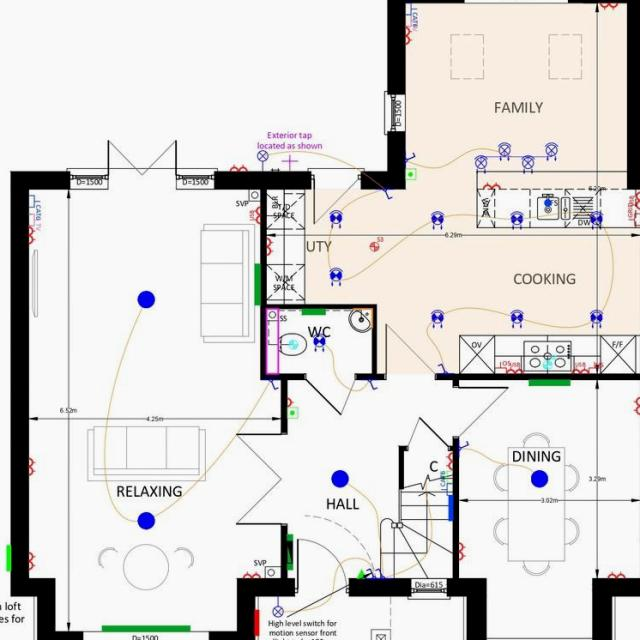BT Entry Point: (357, 566, 367, 578)
Cat 6 Data Socket: (28, 192, 50, 209), (438, 481, 456, 494), (403, 2, 421, 14)
Ceiling Mounted Continuous Extract Fan With Boost Mode Activated By Light Switch: (286, 334, 303, 353)
Ceiling Mounted Continuous Extract Fan With Local Boost Switch: (366, 231, 391, 256)
Co-Ax TV Socket: (29, 212, 46, 227), (405, 14, 423, 26)
Consumer Unit: (285, 534, 298, 570)
Double Socket: (266, 233, 284, 262), (599, 567, 634, 580), (454, 540, 472, 564), (28, 225, 44, 248), (229, 158, 251, 174), (596, 1, 621, 13), (239, 568, 265, 579), (630, 390, 640, 417), (480, 181, 507, 190), (29, 549, 39, 573), (406, 28, 421, 44), (29, 454, 38, 479), (445, 449, 454, 470)
Electric Meter Box: (252, 605, 264, 640)
External Wall Light: (254, 148, 274, 172), (271, 594, 287, 619)
Gas Meter Box: (2, 540, 16, 574)
Grid Switch: (623, 208, 640, 229)
Hob Switch: (588, 361, 605, 374)
Light Switch: (379, 185, 398, 202), (264, 378, 281, 393), (460, 437, 471, 460), (363, 377, 382, 390), (407, 148, 420, 166), (436, 362, 452, 375), (376, 566, 389, 578), (365, 566, 376, 578)
Low Energy Downlighter: (427, 300, 453, 337), (133, 505, 166, 532), (503, 208, 532, 236), (323, 259, 348, 291), (327, 464, 352, 495), (312, 324, 335, 357), (581, 304, 609, 331), (422, 206, 451, 231), (502, 305, 536, 326), (324, 205, 348, 233), (530, 465, 552, 494), (588, 208, 608, 230)
Low Energy Pendant Light: (133, 285, 161, 315)
Outside Tap: (278, 149, 302, 171)
Oven Switch: (494, 356, 510, 375)
Programmable Room Thermostat: (407, 166, 421, 184), (288, 407, 306, 420)
Radiator: (96, 620, 201, 633), (525, 375, 578, 389), (286, 530, 303, 573), (250, 260, 264, 312), (295, 306, 335, 318)
Recirculating Extractor Fan: (537, 351, 561, 370)
Single Socket: (288, 394, 301, 408)
Telephone Socket: (436, 468, 454, 482)
Track Light: (467, 136, 571, 173)
USB Double Socket: (246, 203, 264, 230), (621, 188, 640, 207), (506, 360, 527, 373), (572, 360, 588, 373)
Underfloor Heating Manifold: (444, 494, 456, 522)
Water Entry Position: (542, 195, 558, 210)
